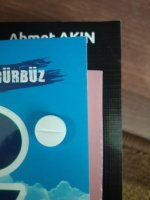Arveles: (33, 113, 68, 148)
